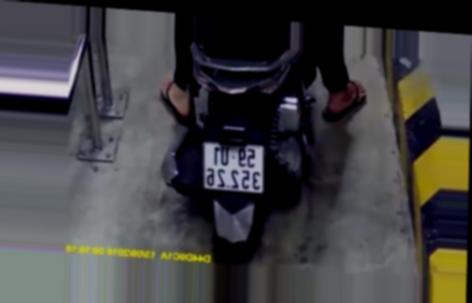License_Plate: (198, 136, 272, 198)
